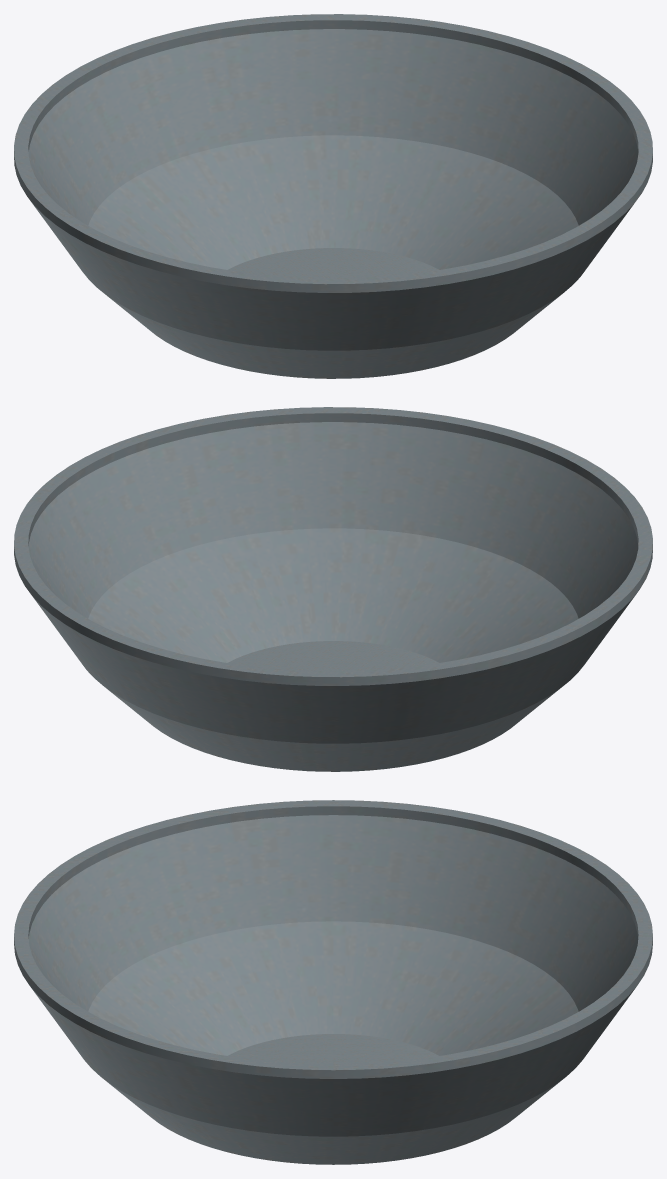
The model's file is misc_imp_silverware_bowl.dae.
The picture shows the model from 3 angles, top to bottom: view 1: azimuth 30°, elevation 25°; view 2: azimuth 150°, elevation 25°; view 3: azimuth 270°, elevation 25°; orthographic projection.
Parts seen in each view (by area): view 1: silver; view 2: silver; view 3: silver.
Part boxes in pixels (x1,y1,x2,y2): silver: [14, 14, 652, 378]; silver: [14, 407, 652, 771]; silver: [14, 800, 652, 1164].
Bounding box in the file's own units: 19.6 × 19.6 × 5.91.
